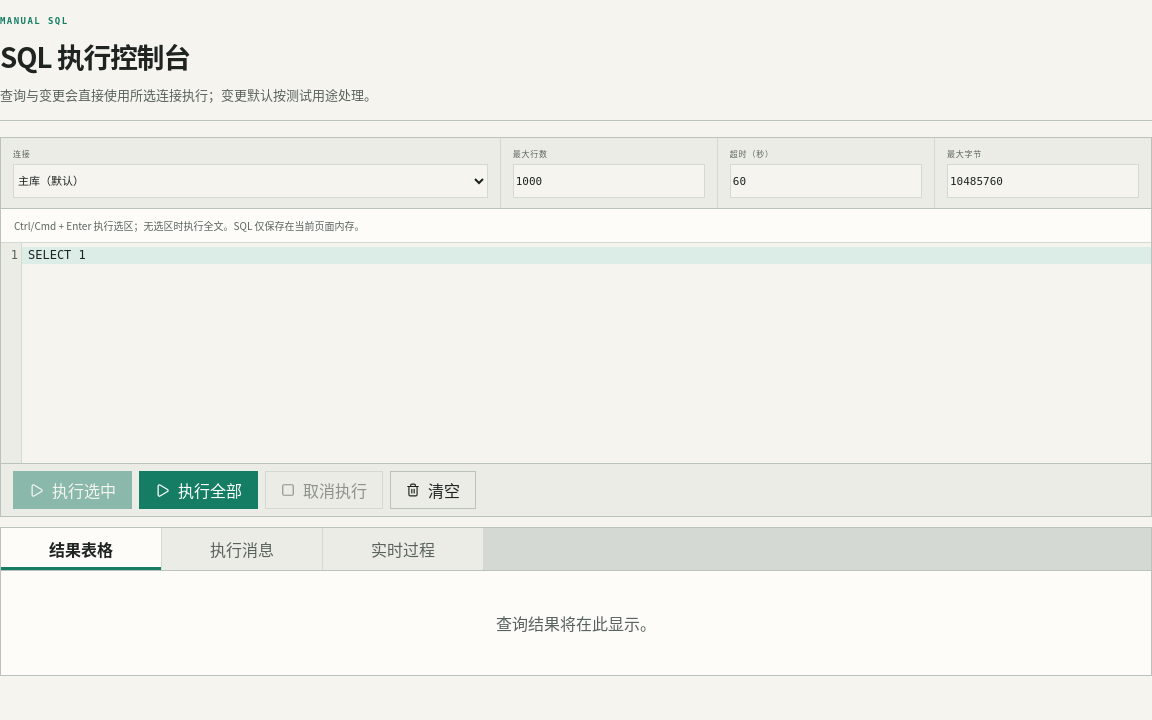
Test: SqlConsolePage › polls an uncertain execution to a terminal state and restores controls
This screenshot has width=1152, height=720.
Click the button "执行全部" at (198, 490), box [139,471,258,509]
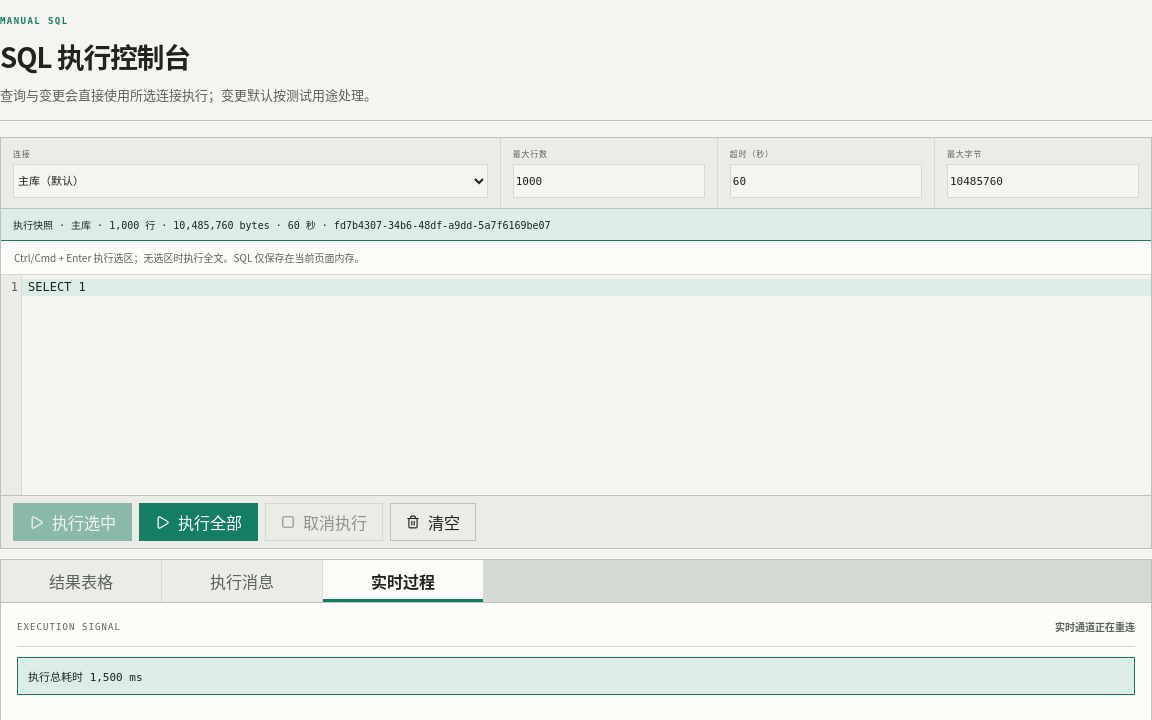
Expected: the button "执行全部" is enabled, [139,503,258,541]
Expected: the text "执行总耗时 1,500 ms" is shown, [17,657,1135,695]
